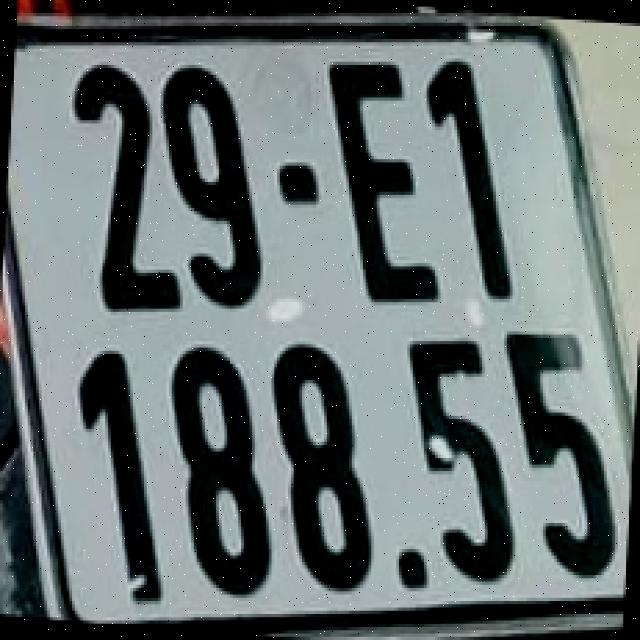1: (425, 56, 525, 306), (75, 346, 166, 606)
2: (65, 59, 184, 315)
5: (507, 323, 621, 580), (406, 328, 517, 585)
8: (274, 336, 380, 596), (170, 338, 276, 598)
9: (165, 60, 270, 314)
E: (324, 52, 443, 309)
